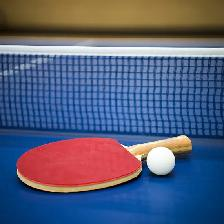WhiteBall: (146, 146, 174, 175)
